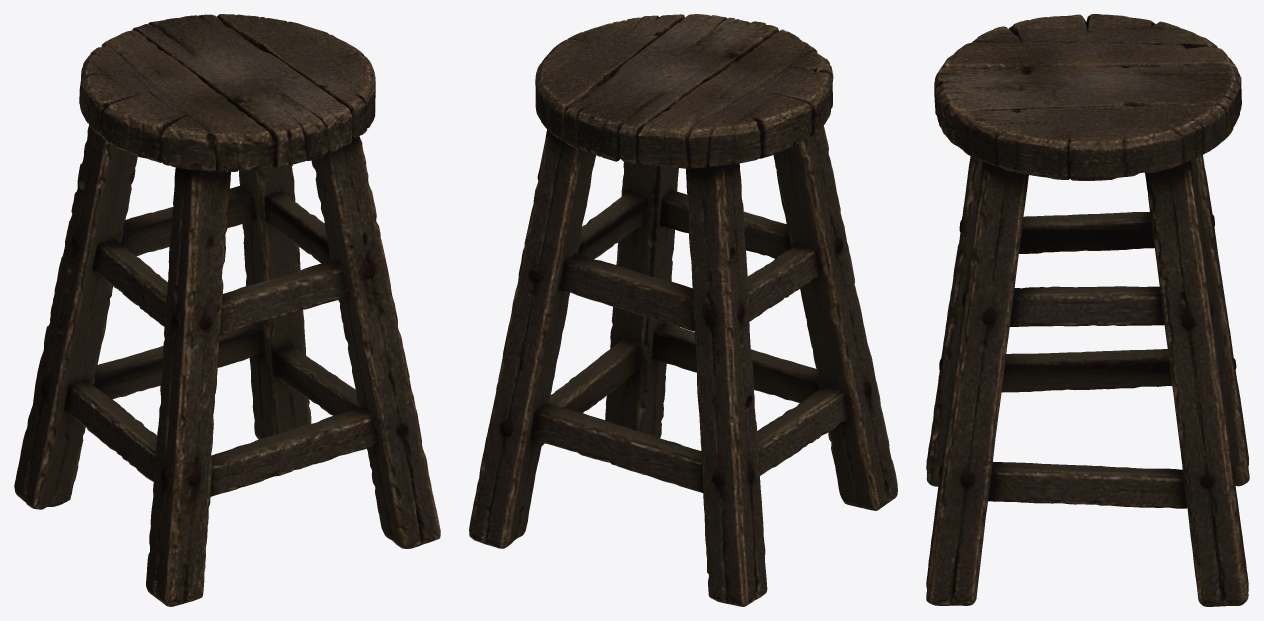
File: seat.glb
The picture shows the model from 3 angles, left to right: view 1: azimuth 30°, elevation 25°; view 2: azimuth 150°, elevation 25°; view 3: azimuth 270°, elevation 25°; orthographic projection. The views are drawn at different scales.
Visible parts, largest first — view 1: tripo_node_6e50ff3b-8665-4a17-a300-78868f8b6f1f; view 2: tripo_node_6e50ff3b-8665-4a17-a300-78868f8b6f1f; view 3: tripo_node_6e50ff3b-8665-4a17-a300-78868f8b6f1f.
Part boxes in pixels (box(x1,y1,x2,y2)): tripo_node_6e50ff3b-8665-4a17-a300-78868f8b6f1f: box(14, 14, 440, 606); tripo_node_6e50ff3b-8665-4a17-a300-78868f8b6f1f: box(469, 14, 897, 606); tripo_node_6e50ff3b-8665-4a17-a300-78868f8b6f1f: box(926, 14, 1249, 606).
Size of the model in its own units: 0.6494 by 1 by 0.63.
1 material, 1 textured.
